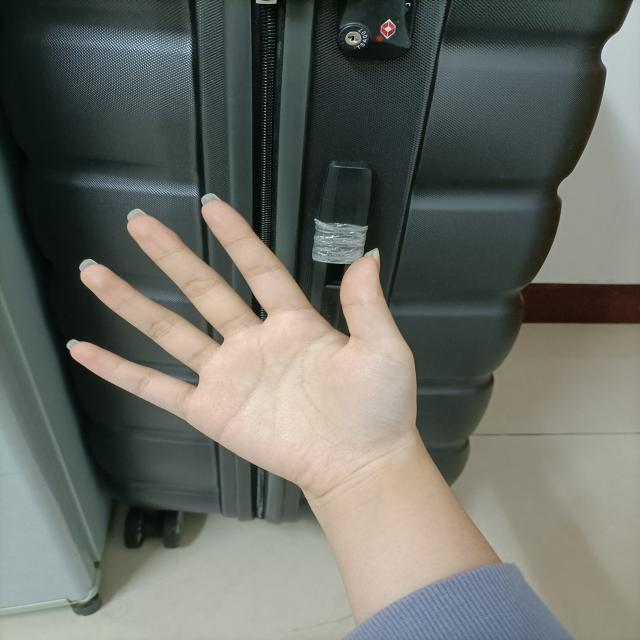Hand: (60, 189, 432, 519)
